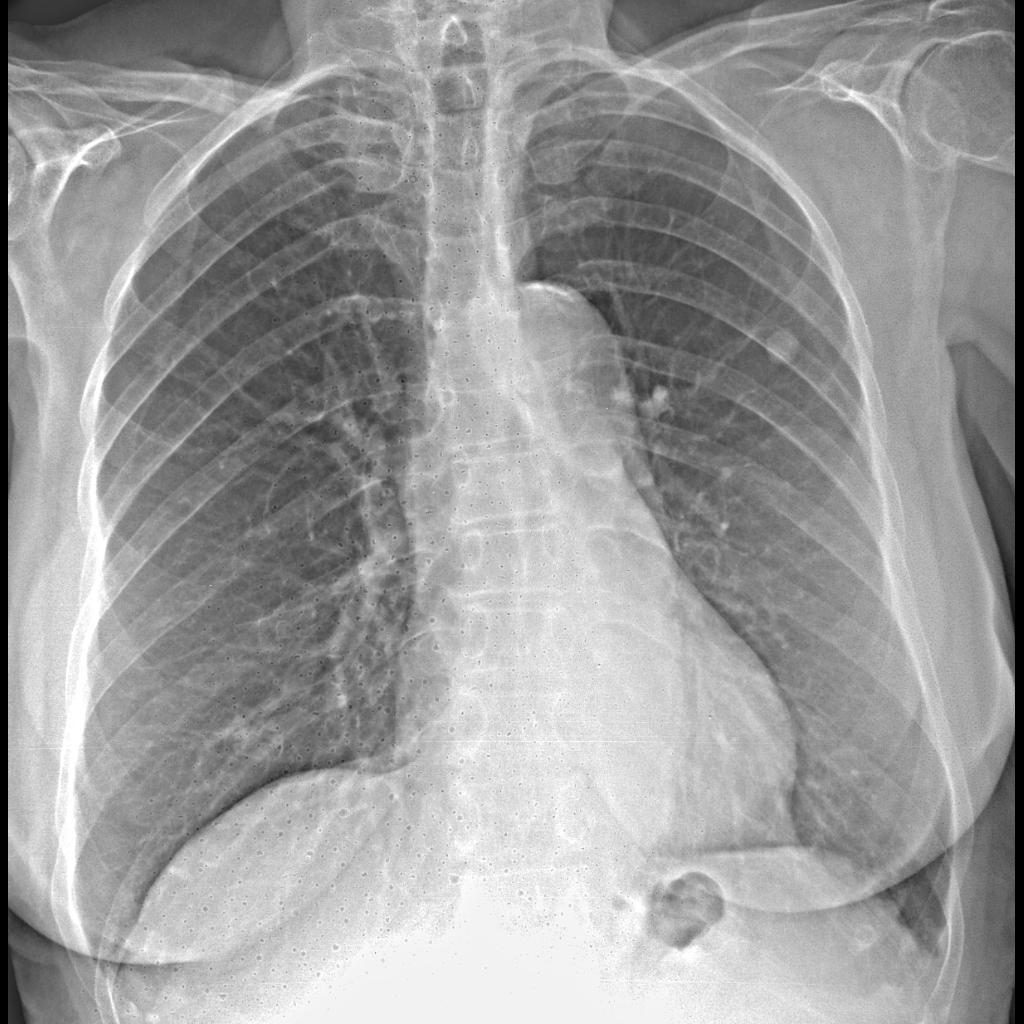Nodule: (761, 320, 811, 380)
